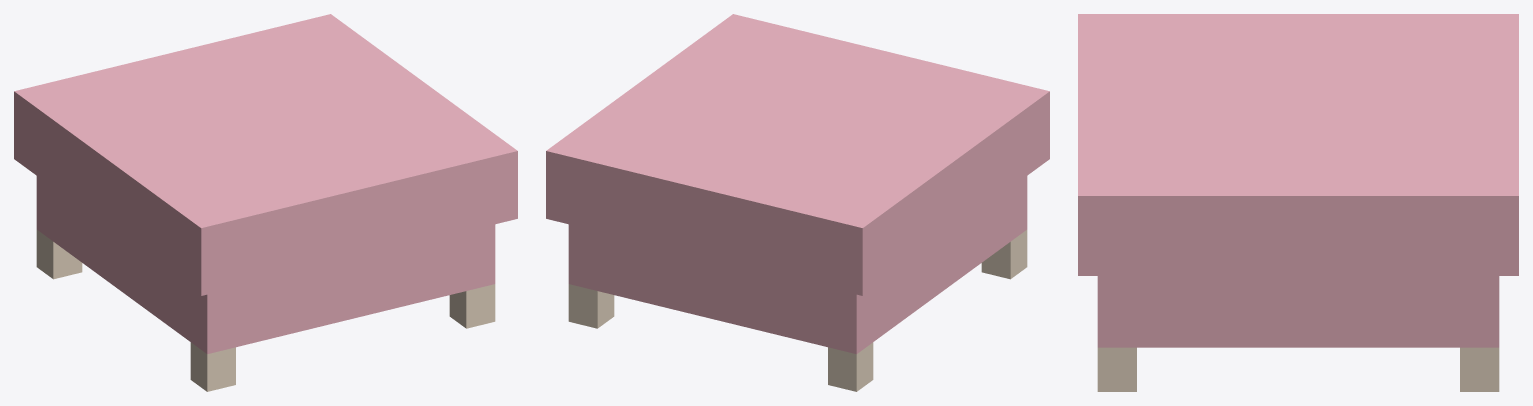
The model's file is furn_ottoman.glb.
3 renders of one model, left to right at view 1: azimuth 30°, elevation 25°; view 2: azimuth 150°, elevation 25°; view 3: azimuth 270°, elevation 25°, orthographic. The views are drawn at different scales.
Visible parts, largest first — view 1: ottoman; view 2: ottoman; view 3: ottoman.
Boxes of the visible parts, x1,y1,x2,y2 form: ottoman: [14, 14, 517, 391]; ottoman: [546, 14, 1049, 391]; ottoman: [1078, 14, 1518, 391].
Size of the model in its own units: 0.8032 by 0.4201 by 0.8217.
